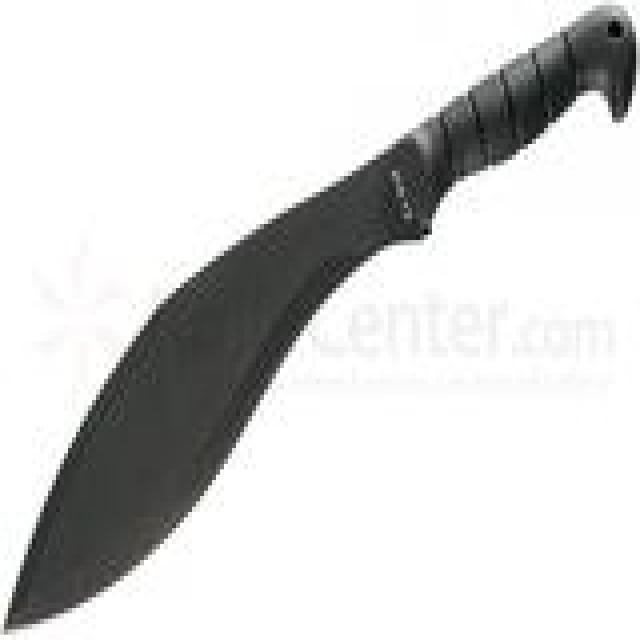Knife: (5, 0, 639, 637)
